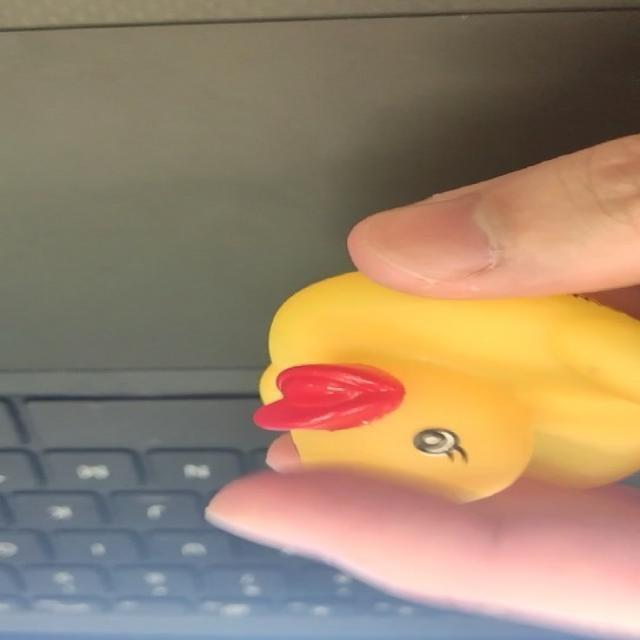rubber-duck: (253, 271, 638, 499)
